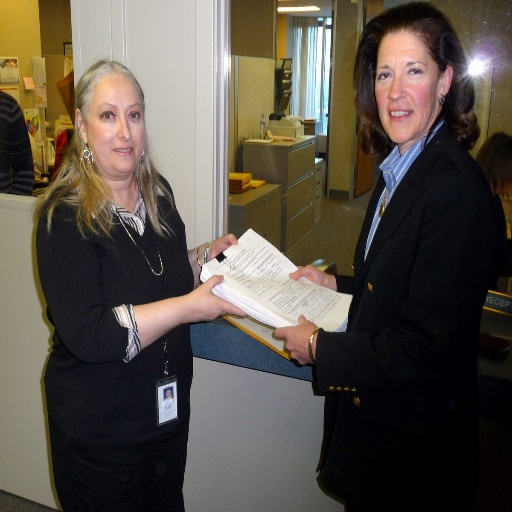hand: (190, 273, 247, 323), (272, 319, 321, 373), (206, 233, 236, 259), (286, 264, 325, 284)
